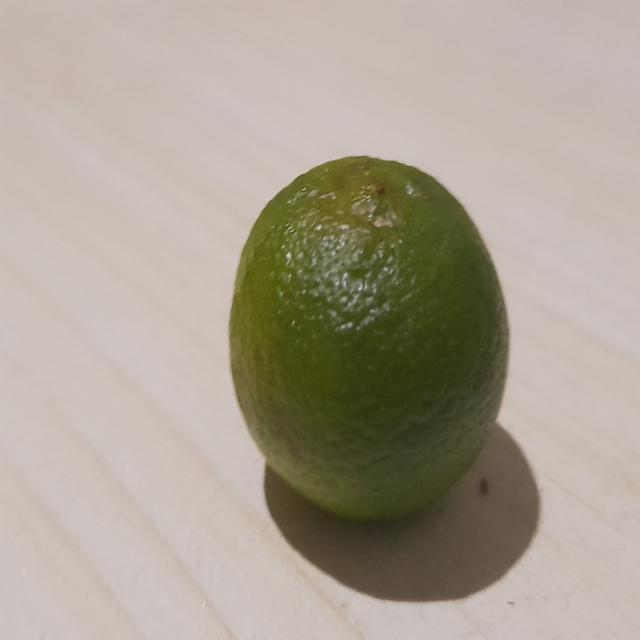heathy: (229, 152, 507, 524)
